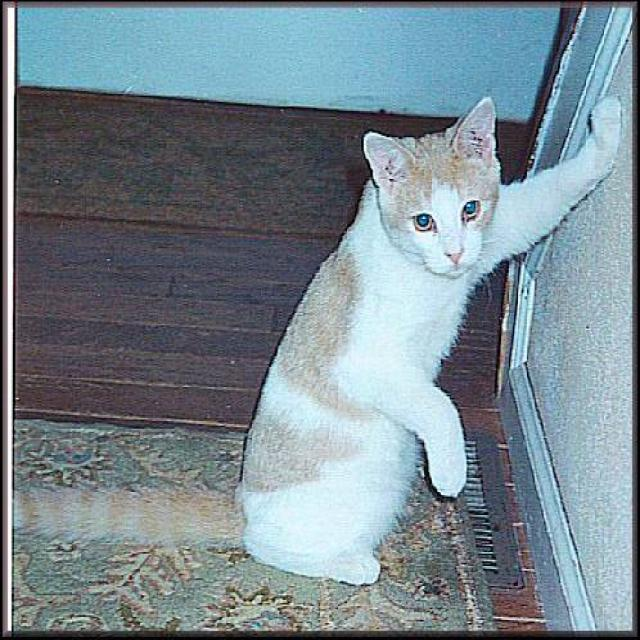cat: (233, 93, 622, 586)
